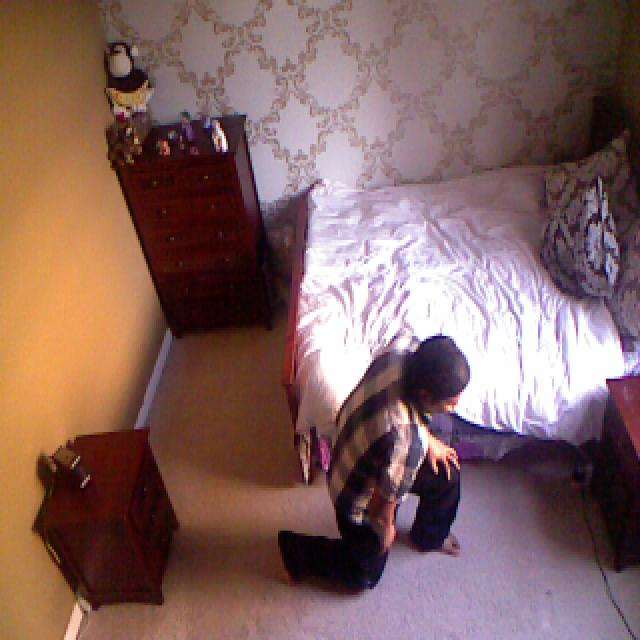crawling: (279, 338, 470, 626)
